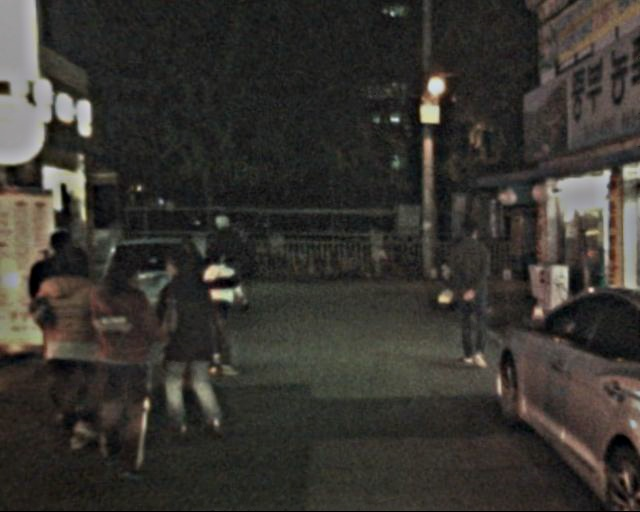person: (79, 240, 166, 478), (29, 236, 107, 448), (147, 237, 226, 440), (447, 212, 503, 371), (189, 240, 245, 377)
